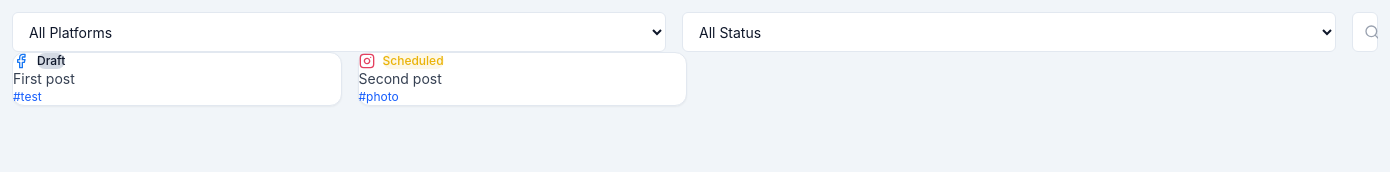
Scenario: PostList › filters by status
Select "Draft" in the dropdown named "Filter by status" at (1009, 32), box [682,12,1336,52]
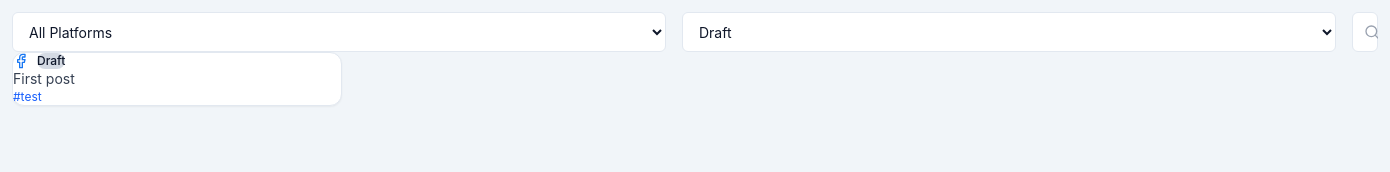
Expected: the text "First post" is shown, [13,70,75,87]
Expected: the text "Second post" is gone
